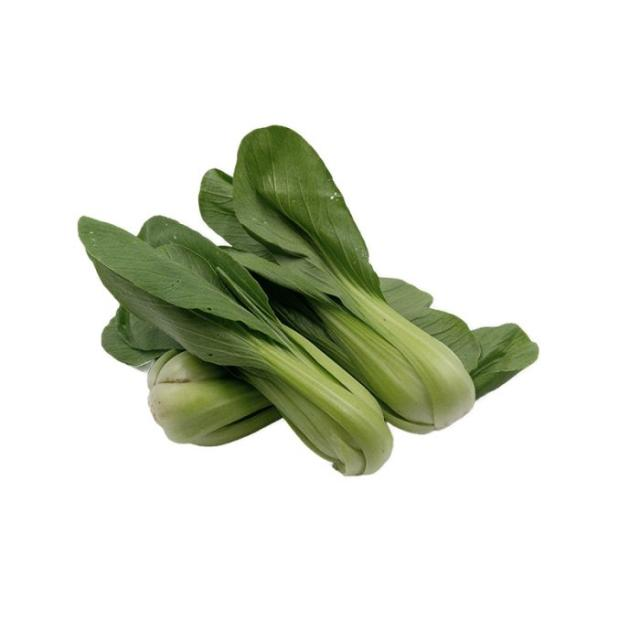bokchoy: (58, 122, 543, 486)
